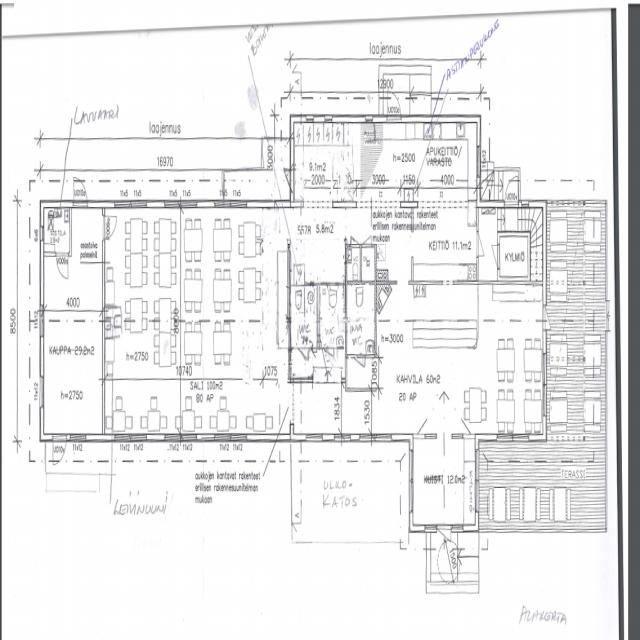door: (436, 525, 451, 559), (504, 175, 518, 208), (276, 170, 294, 195), (53, 434, 66, 467), (387, 90, 400, 122), (74, 175, 86, 208), (484, 245, 499, 269), (542, 308, 558, 330), (476, 233, 490, 256), (56, 252, 68, 278), (102, 217, 116, 239), (354, 354, 364, 378), (324, 348, 334, 370), (299, 348, 309, 370), (362, 228, 371, 248), (351, 228, 359, 248)
